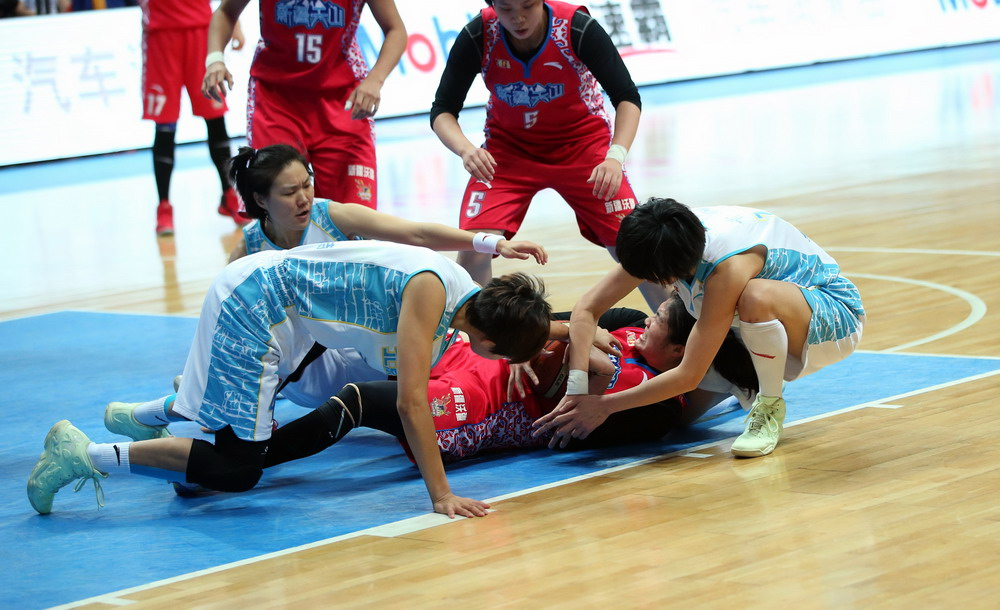fall: (97, 239, 577, 509)
